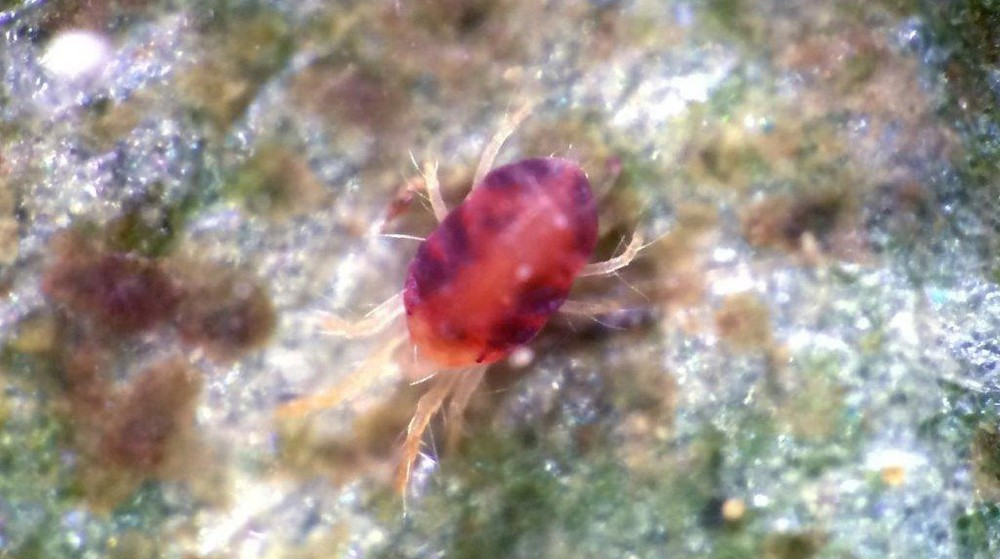Aracnido Rojo: (274, 110, 676, 499)
